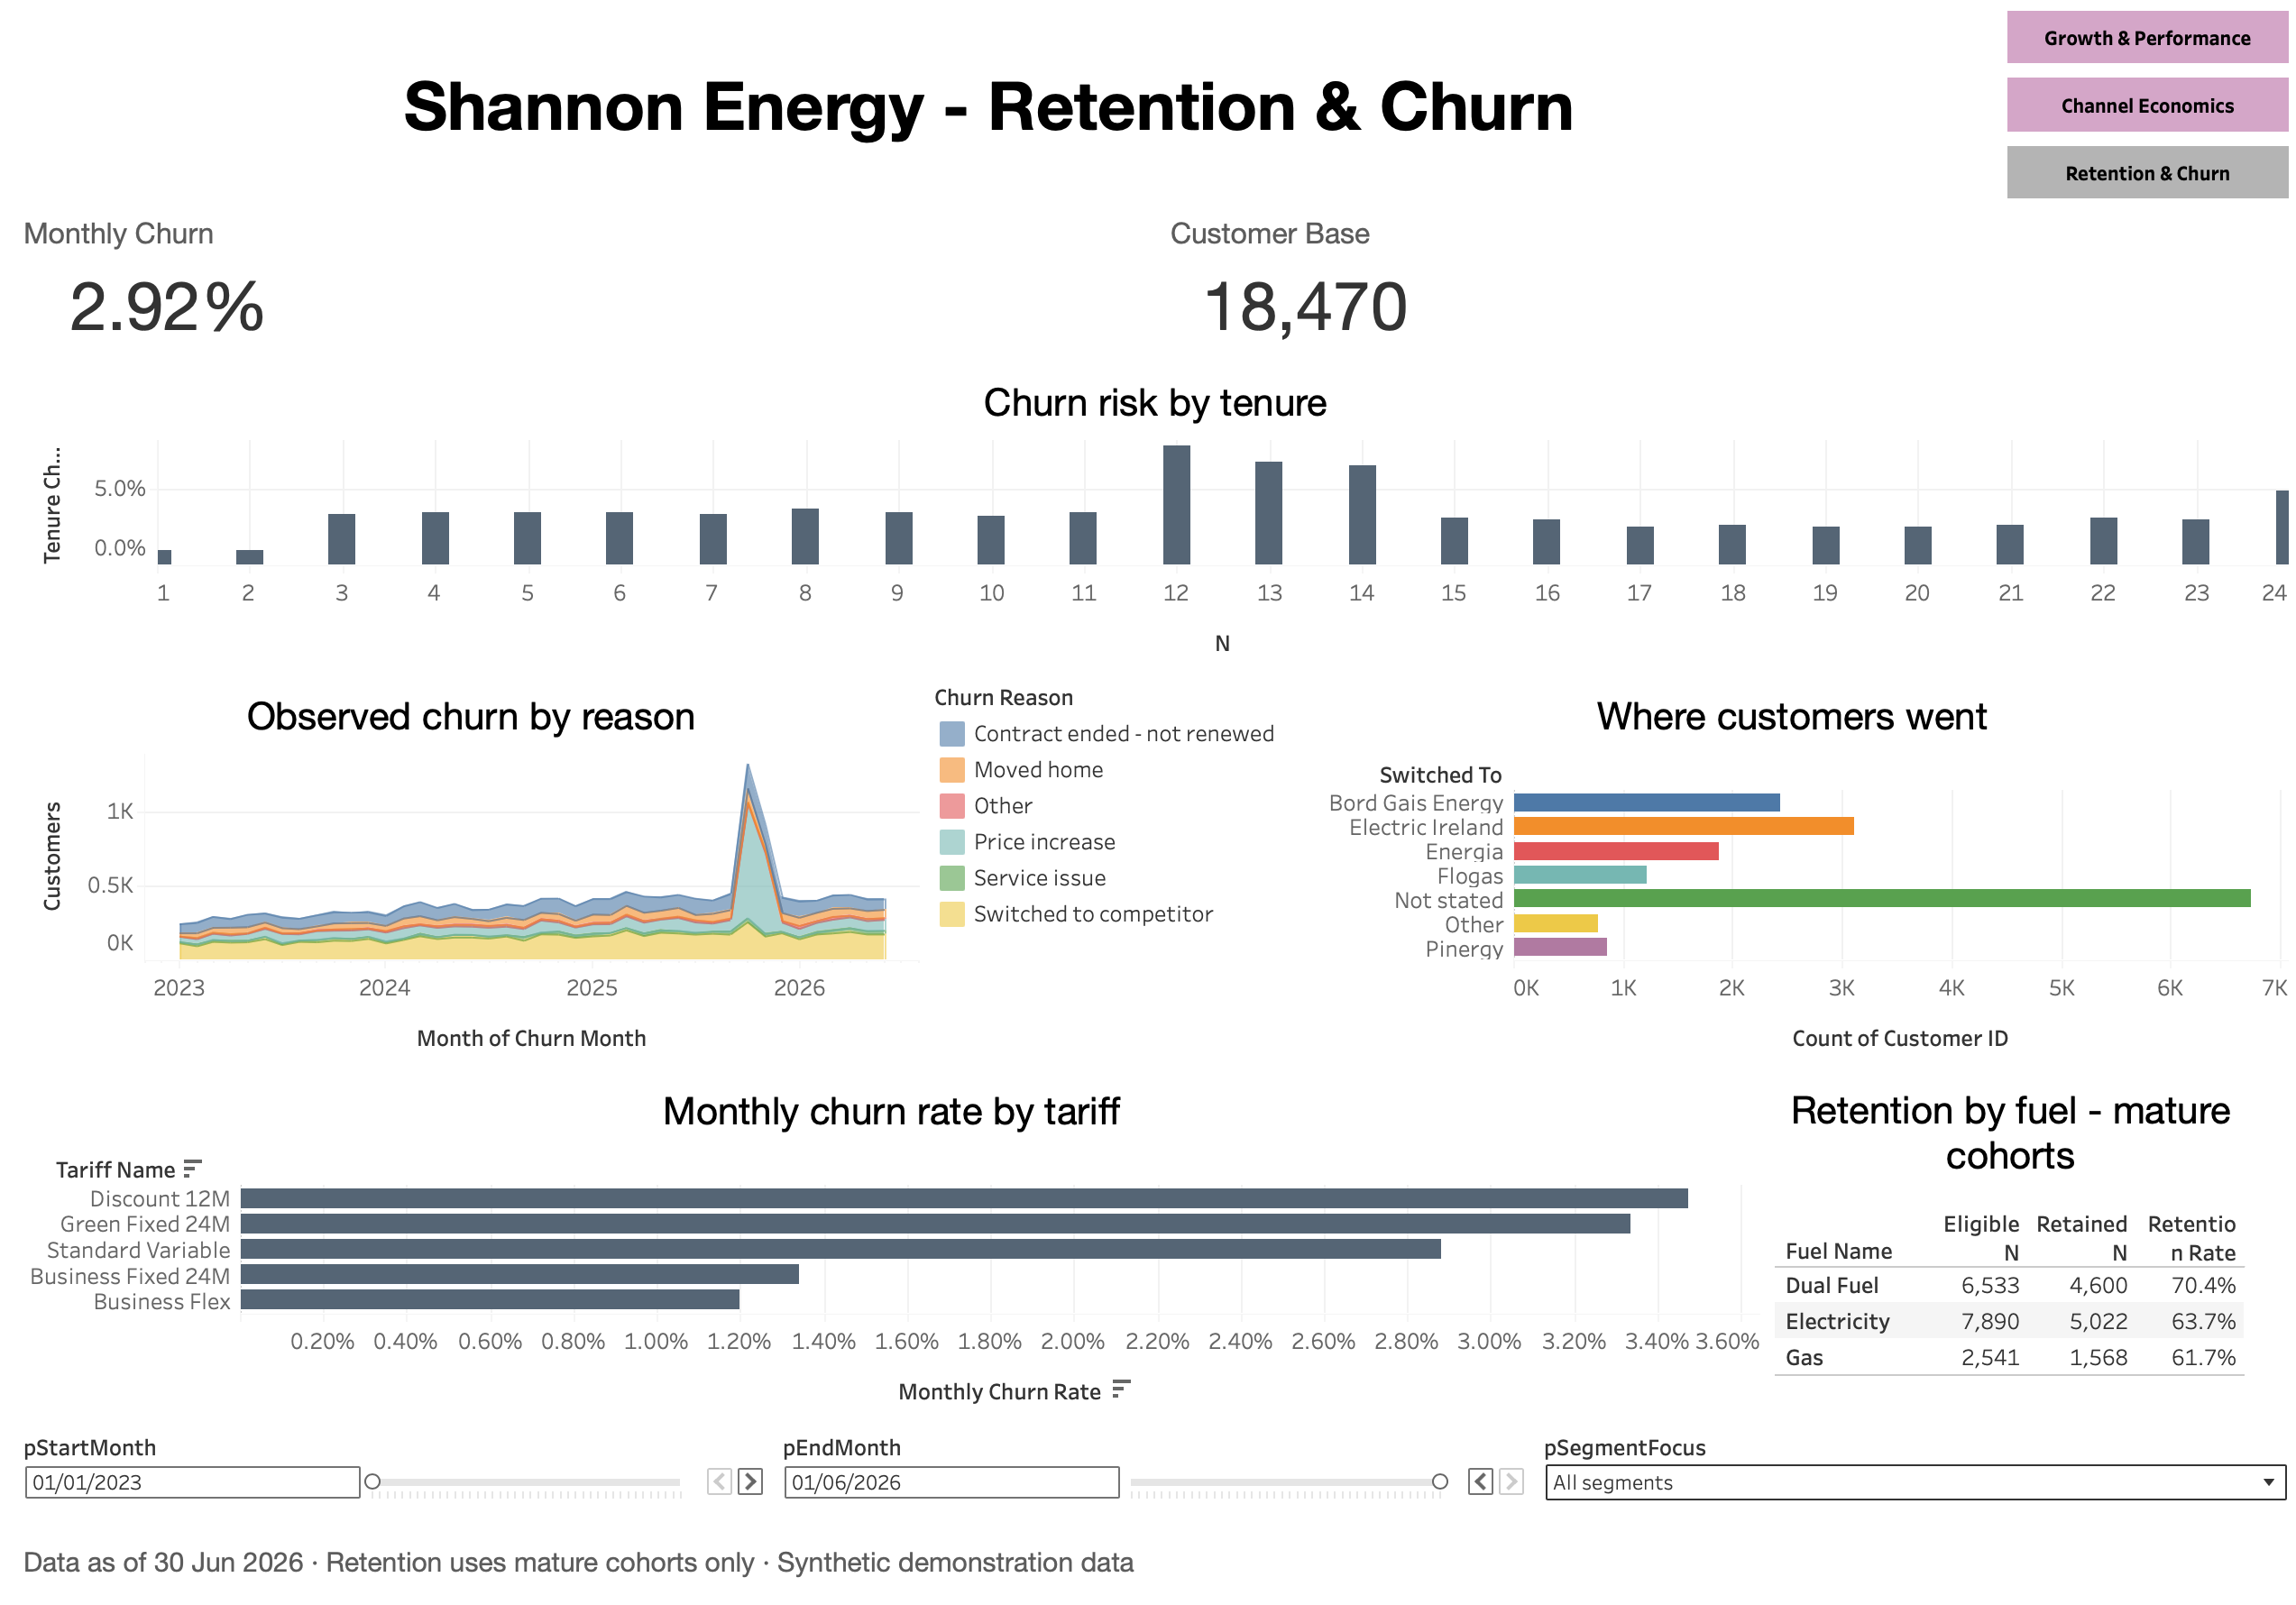

This screenshot's page, from the dashboard's own definition file:
{"tool":"tableau","page":{"name":"Retention & Churn","canvas":[1280,900],"ordinal":2},"visuals":[{"type":"text","box":[8,8,1100,120]},{"type":"dashboard-object","box":[1108,8,164,40]},{"type":"dashboard-object","box":[1108,48,164,40]},{"type":"dashboard-object","box":[1108,88,164,40]},{"type":"text","box":[8,128,638,30]},{"type":"text","box":[646,128,626,30]},{"type":"worksheet","title":"KPI Monthly Churn","mark":"Automatic","box":[8,158,632,69]},{"type":"worksheet","title":"KPI Closing Base","mark":"Automatic","box":[640,158,632,69]},{"type":"worksheet","title":"Churn Risk by Tenure","mark":"Bar","rows":["Calculation_2794116629536802"],"cols":["N"],"box":[8,227,1264,150.5]},{"type":"worksheet","title":"Observed Churn by Reason","mark":"Area","rows":["CustomerID"],"cols":["ChurnMonth"],"box":[8,377.5,504.5,250]},{"type":"legend","title":"Observed Churn by Reason","param":"[federated.0su2pjg0av63wn1fjwxvd16f1sko].[none:ChurnReason:nk]","box":[512.5,377.5,201,250]},{"type":"worksheet","title":"Where Customers Went","mark":"Bar","rows":["SwitchedTo"],"cols":["CustomerID"],"box":[713.5,377.5,558.5,250]},{"type":"worksheet","title":"Monthly Churn Rate by Tariff","mark":"Bar","rows":["TariffName"],"cols":["Calculation_2794116624846859"],"box":[8,627.5,944,150.5]},{"type":"worksheet","title":"Retention by Fuel","mark":"Text","rows":["FuelName"],"box":[952,627.5,320,150.5]},{"type":"parameter","param":"[Parameters].[Parameter 2794116622106624]","box":[8,778,421.3,75]},{"type":"parameter","param":"[Parameters].[Parameter 2794116622622721]","box":[429.3,778,421.3,75]},{"type":"parameter","param":"[Parameters].[Parameter 2794116622929922]","box":[850.6,778,421.3,75]},{"type":"text","box":[8,853,1264,39]}]}

Visuals, with their boxes in screenshot pixels (x1, y1, x2, y2), scaled from the page's 1280x900 canvas onto the 2296x1605 screenshot:
text: [left=14, top=14, right=1988, bottom=228]
dashboard-object: [left=1988, top=14, right=2282, bottom=86]
dashboard-object: [left=1988, top=86, right=2282, bottom=157]
dashboard-object: [left=1988, top=157, right=2282, bottom=228]
text: [left=14, top=228, right=1159, bottom=281]
text: [left=1159, top=228, right=2282, bottom=281]
"KPI Monthly Churn" worksheet: [left=14, top=281, right=1148, bottom=405]
"KPI Closing Base" worksheet: [left=1148, top=281, right=2282, bottom=405]
"Churn Risk by Tenure" worksheet (Bar marks): [left=14, top=405, right=2282, bottom=674]
"Observed Churn by Reason" worksheet (Area marks): [left=14, top=674, right=919, bottom=1119]
"Observed Churn by Reason" legend: [left=919, top=674, right=1280, bottom=1119]
"Where Customers Went" worksheet (Bar marks): [left=1280, top=674, right=2282, bottom=1119]
"Monthly Churn Rate by Tariff" worksheet (Bar marks): [left=14, top=1119, right=1708, bottom=1388]
"Retention by Fuel" worksheet (Text marks): [left=1708, top=1119, right=2282, bottom=1388]
parameter: [left=14, top=1388, right=770, bottom=1521]
parameter: [left=770, top=1388, right=1526, bottom=1521]
parameter: [left=1526, top=1388, right=2282, bottom=1521]
text: [left=14, top=1521, right=2282, bottom=1591]
